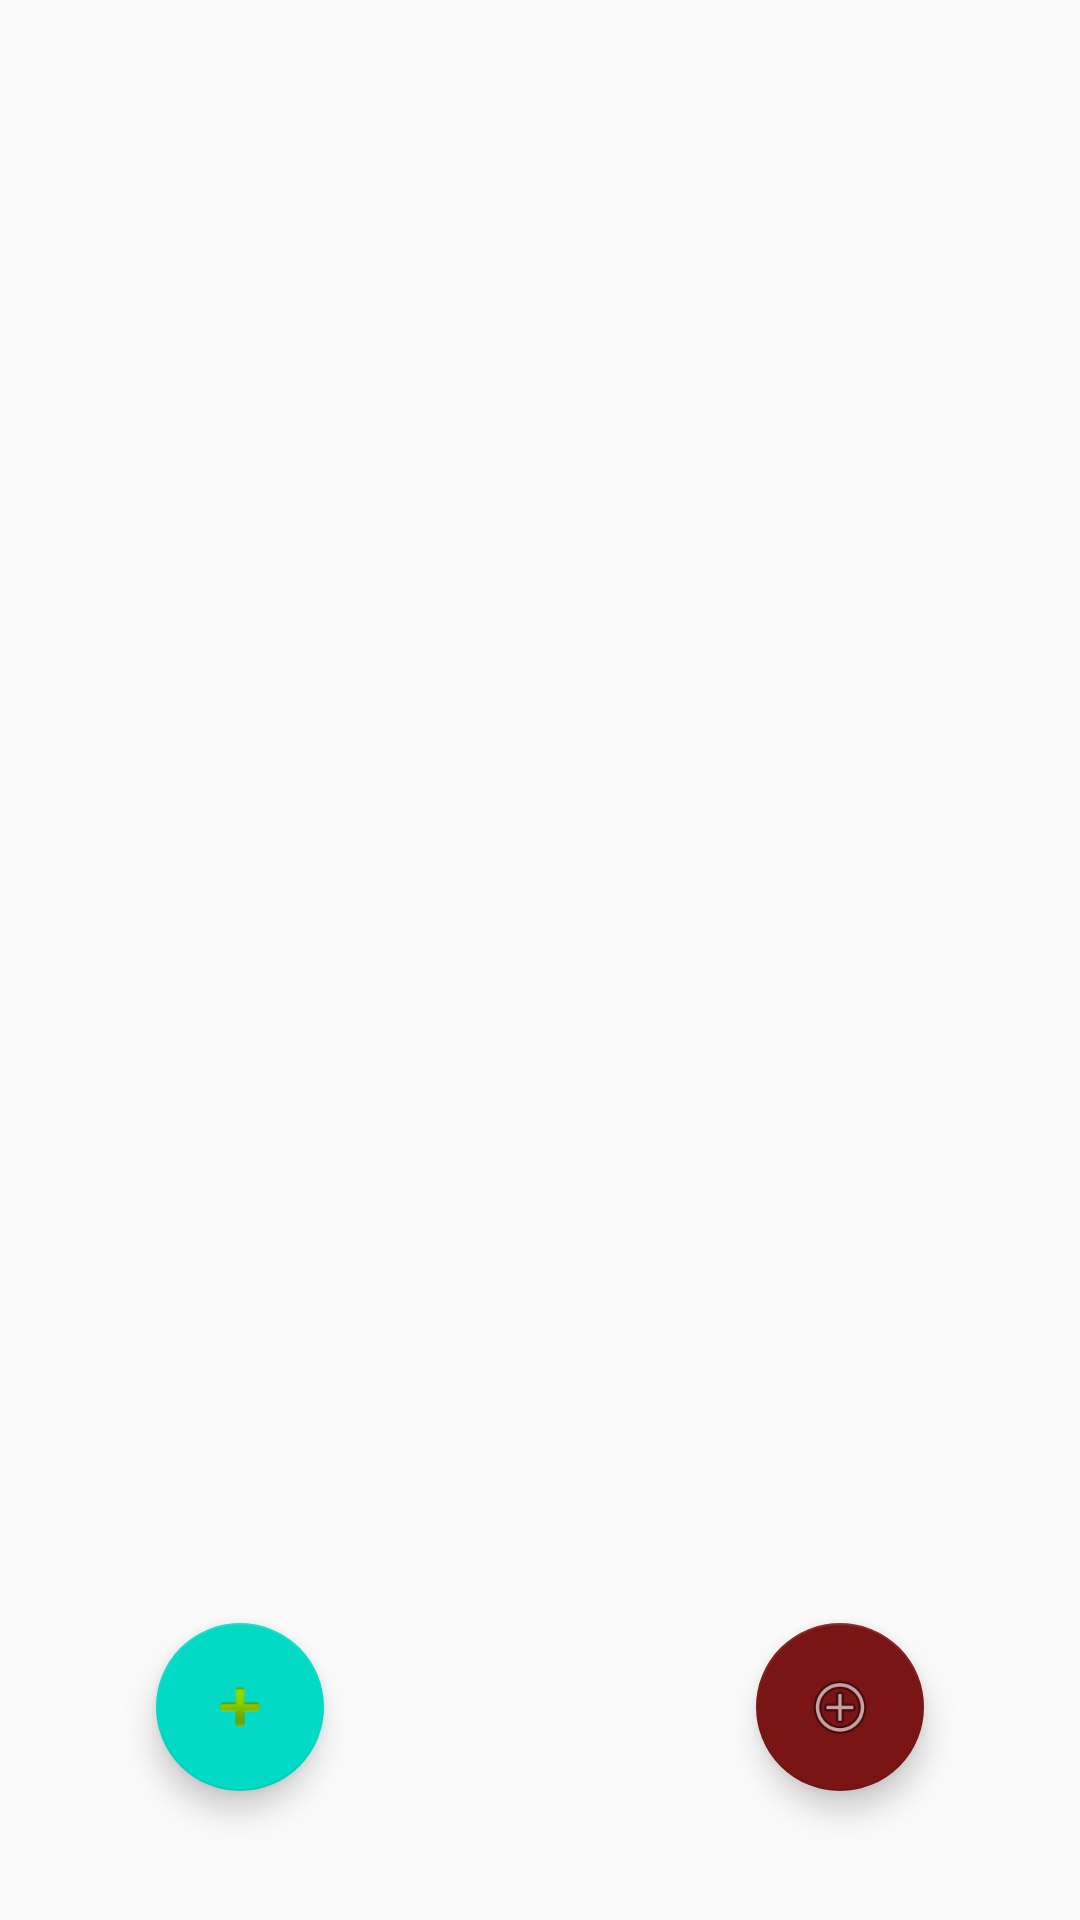

Icons on this 1080x1920 Android screen, each with the point to tap as (x=x, y=y):
add: (x=240, y=1707), (x=840, y=1707)
